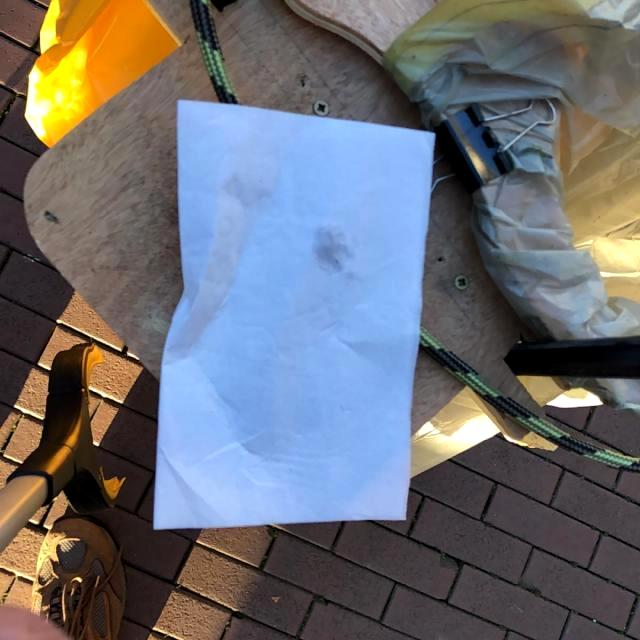Paper: (152, 97, 438, 529)
